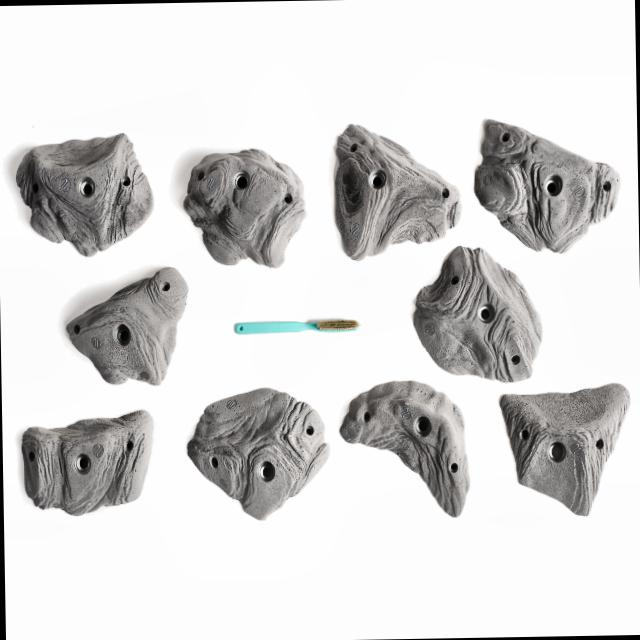Hold: (470, 113, 617, 255), (187, 388, 332, 523), (342, 380, 476, 518), (12, 136, 160, 260), (412, 248, 546, 384), (335, 114, 458, 258), (504, 379, 634, 515), (182, 149, 318, 267), (66, 266, 190, 389), (25, 406, 158, 514)
